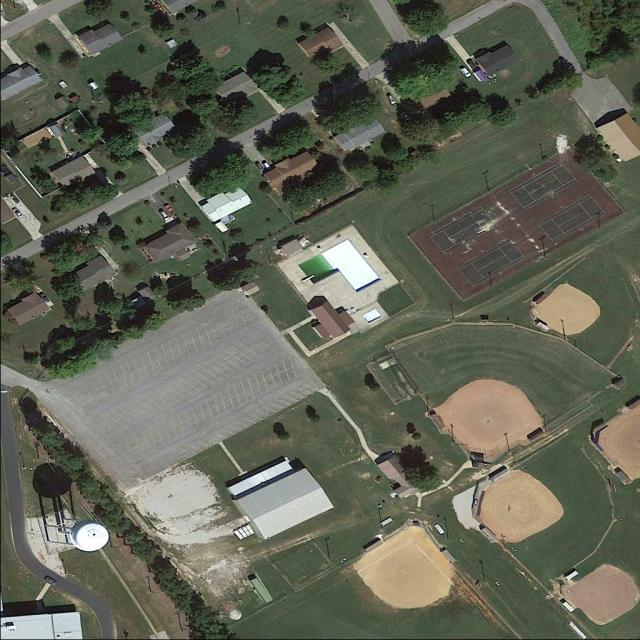small-vehicle: (11, 207, 24, 218), (44, 576, 58, 586), (39, 291, 50, 303), (461, 66, 472, 78), (256, 161, 266, 174), (10, 193, 21, 204), (160, 209, 170, 221), (387, 92, 397, 104), (154, 2, 165, 12), (164, 204, 174, 214), (263, 161, 272, 172), (402, 111, 411, 121)
storage-tank: (70, 520, 108, 551)
